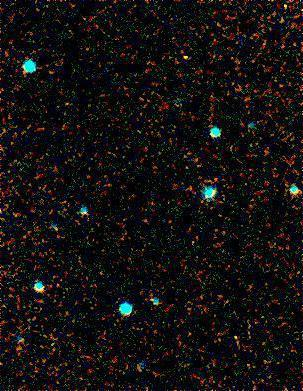star: (228, 320, 258, 350)
